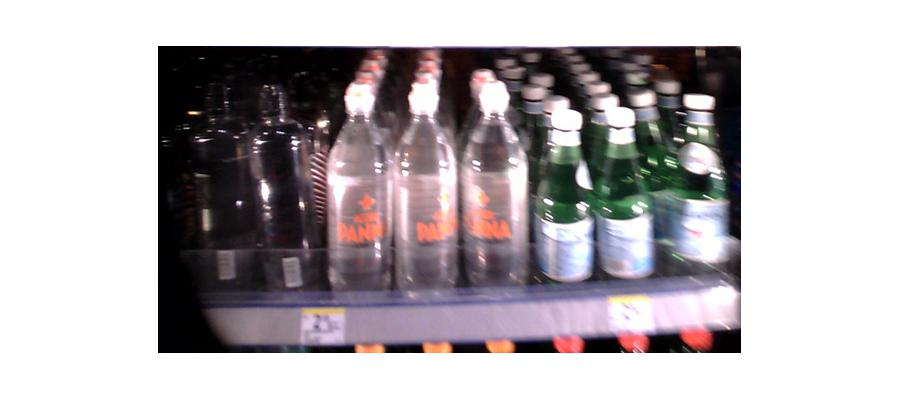bottle: (322, 69, 390, 297), (391, 76, 457, 296), (461, 78, 529, 291), (249, 84, 313, 292), (658, 99, 725, 277), (535, 106, 592, 290), (595, 106, 653, 284)
